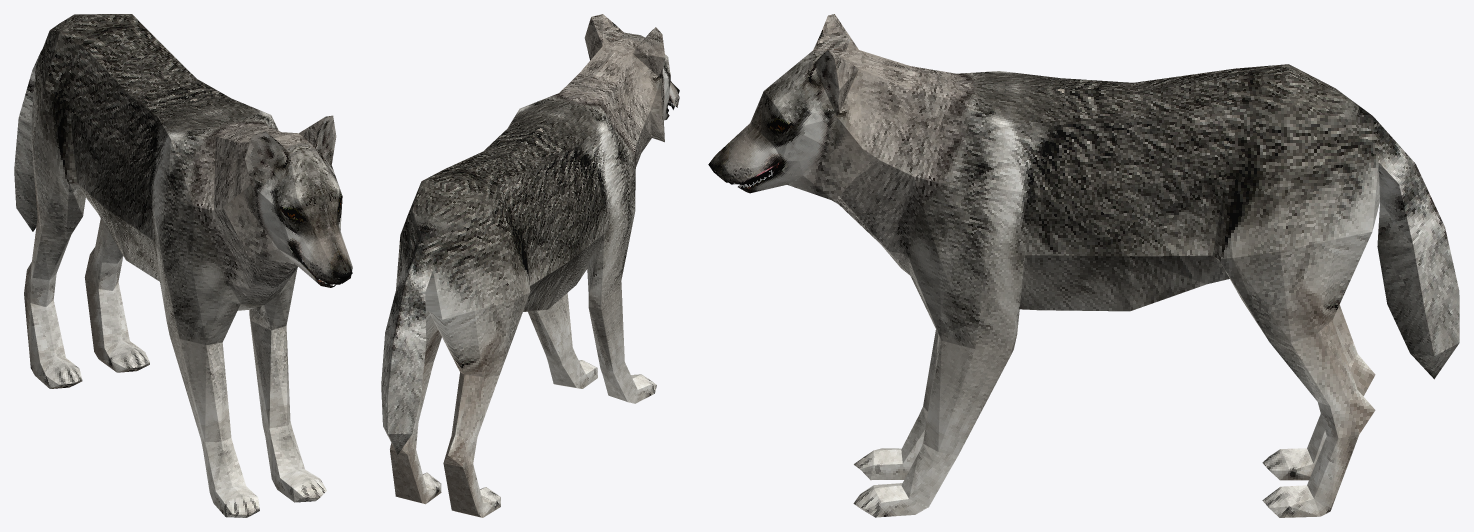
File: natural-wolf-source.glb
The picture shows the model from 3 angles, left to right: view 1: azimuth 30°, elevation 25°; view 2: azimuth 150°, elevation 25°; view 3: azimuth 270°, elevation 25°; orthographic projection. The views are drawn at different scales.
Parts seen in each view (by area): view 1: natural-wolf-source runtime mesh; view 2: natural-wolf-source runtime mesh; view 3: natural-wolf-source runtime mesh.
Boxes of the visible parts, x1,y1,x2,y2 form: natural-wolf-source runtime mesh: (14, 14, 352, 517); natural-wolf-source runtime mesh: (381, 14, 679, 517); natural-wolf-source runtime mesh: (708, 14, 1459, 517).
Bounding box in the file's own units: 0.3354 × 0.96 × 1.43.
1 material, 1 textured.
